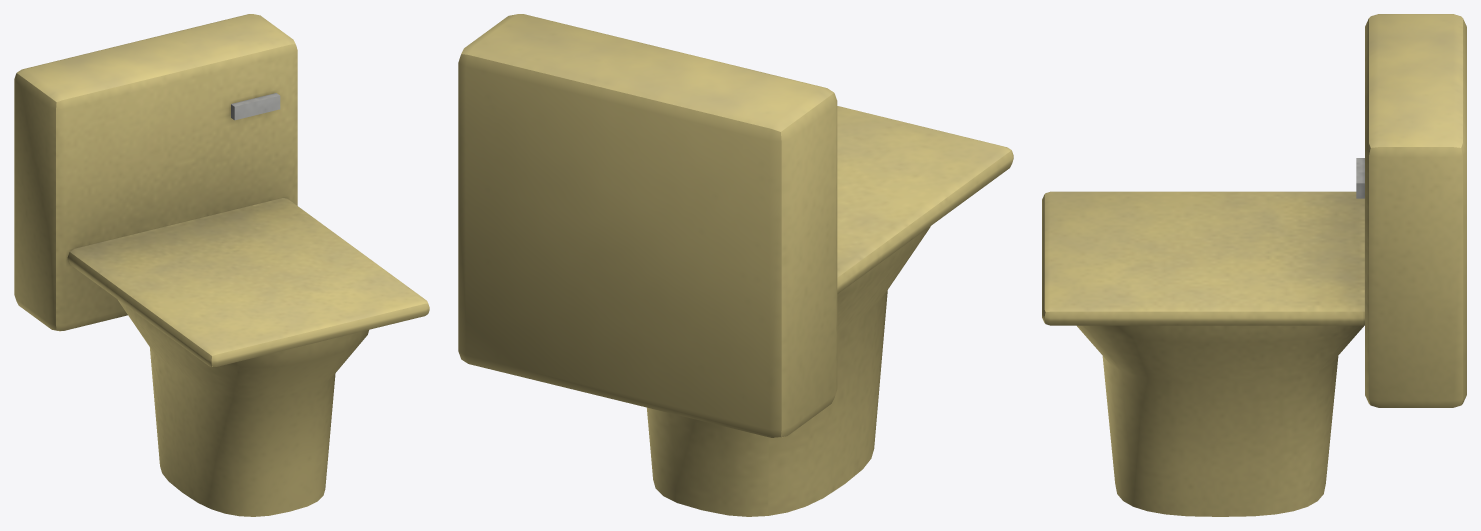
File: H_Toilet_Butter.fbx
3 views of the same model, side by side, from view 1: azimuth 30°, elevation 25°; view 2: azimuth 150°, elevation 25°; view 3: azimuth 270°, elevation 25° (orthographic). The views are drawn at different scales.
Parts seen in each view (by area): view 1: H_Toilet_Butter; view 2: H_Toilet_Butter; view 3: H_Toilet_Butter.
Boxes of the visible parts, bbox=[...] form: H_Toilet_Butter: bbox=[14, 14, 429, 516]; H_Toilet_Butter: bbox=[458, 14, 1013, 516]; H_Toilet_Butter: bbox=[1042, 14, 1466, 516].
Size of the model in its own units: 190 by 264 by 250.
1 material, 1 textured.
